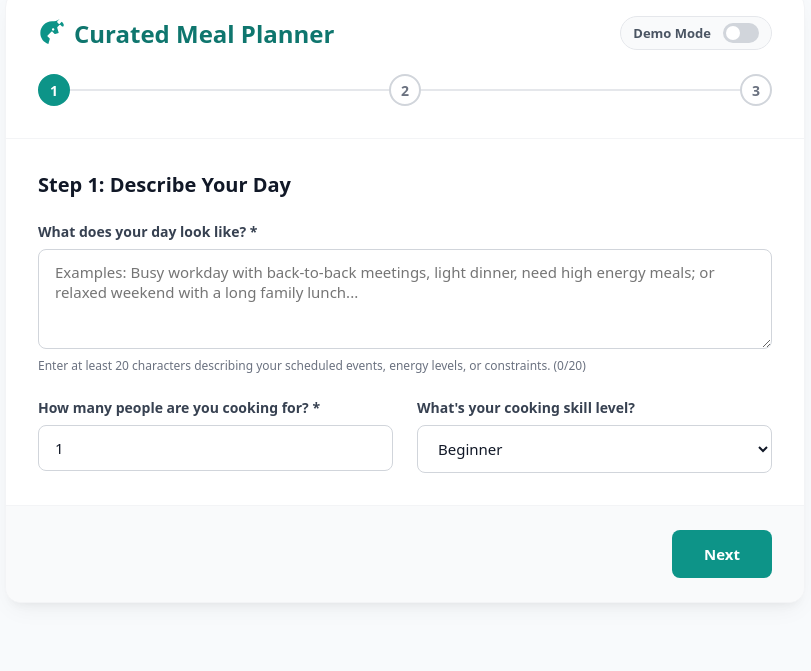
Scenario: React UI - Wizard Navigation & Validation › navigates to Step 2 when input is valid
The image size is (811, 671).
Replace the text in the text box labelled "What does your day look like? *" with "Working hard all day in the office and need healthy dinners" at (405, 299), box [38,249,772,349]
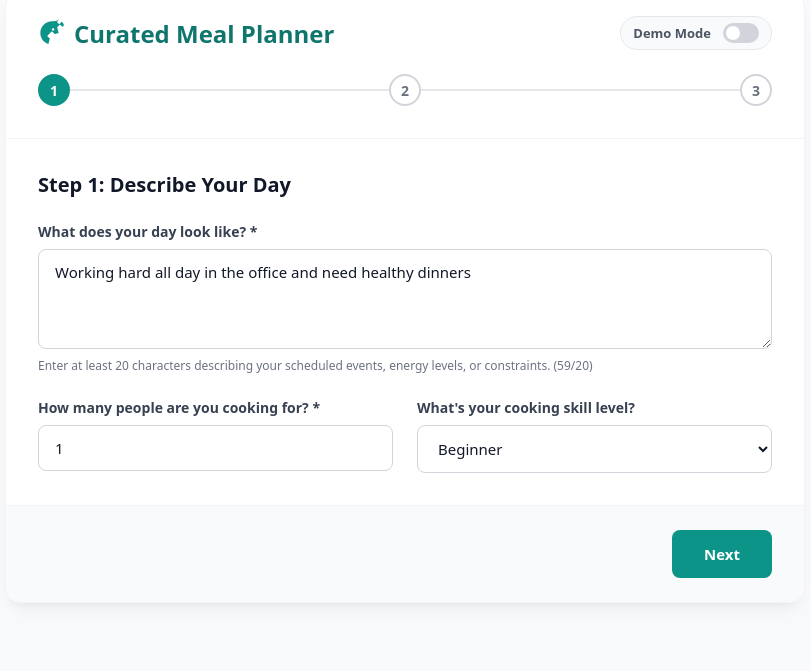
Click the button with aria-label "Proceed to step 2" at (722, 554), box [672,530,772,578]
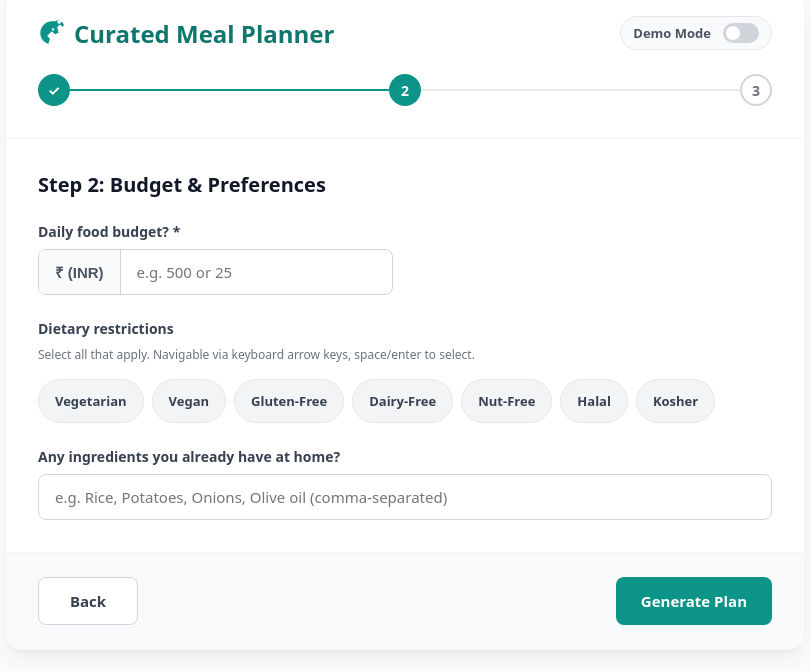
Expected: the heading "Step 2: Budget & Preferences" is shown, [38,171,326,198]
